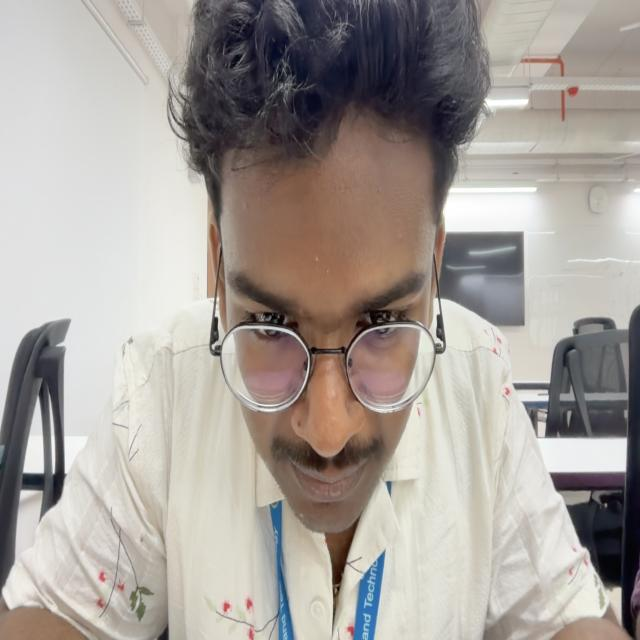sai: (167, 0, 496, 532)
